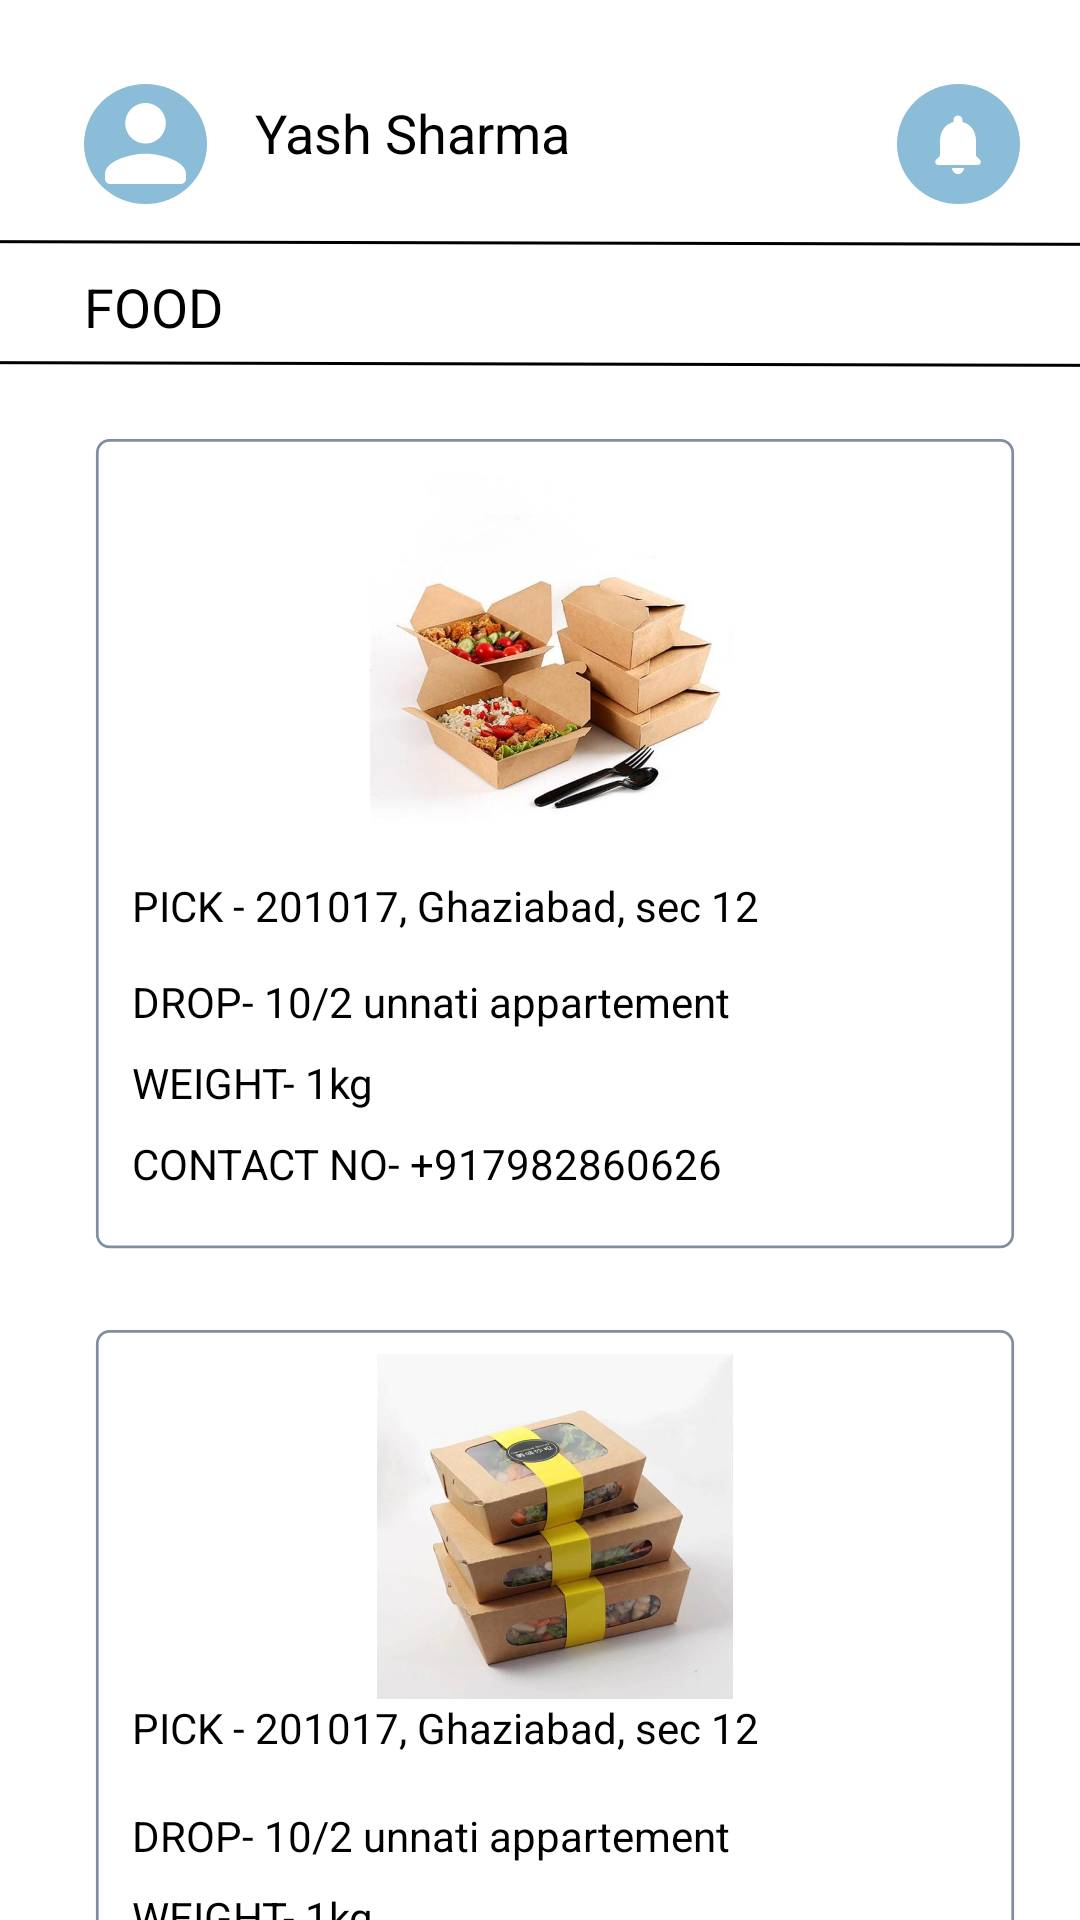

Icon click points for this 1080px x 1920px phone screenshot, format (x=x, y=y):
box: (x=545, y=693), (x=555, y=1552)
notification: (x=958, y=144)
profile: (x=145, y=144)
